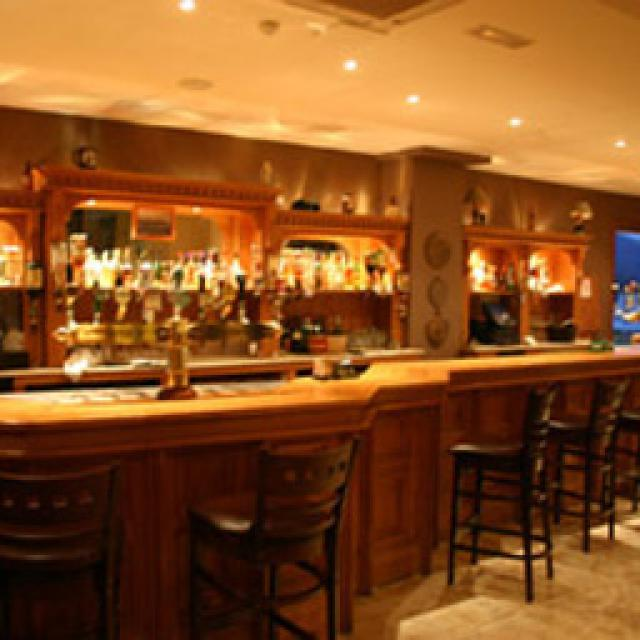bar stool: (2, 340, 635, 635)
beer machine: (152, 315, 195, 398)
bottles occluded: (65, 230, 258, 285)
chair -occluded-: (445, 378, 555, 600)
chair cushion: (188, 438, 358, 638), (2, 458, 120, 638)
chair part: (550, 372, 630, 548)
floor -X: (278, 480, 635, 638)
showcase occluded: (2, 165, 422, 390), (462, 222, 590, 350)
wall clock: (0, 102, 635, 387)
